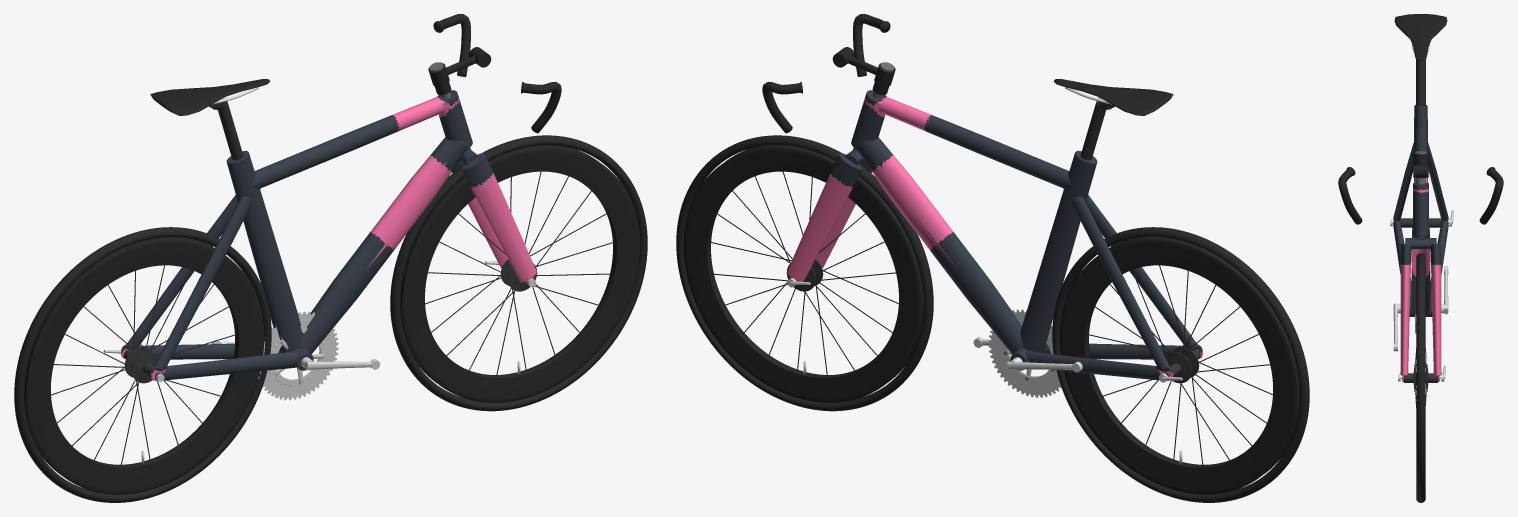
The model's file is bike_web_raw.glb.
3 renders of one model, left to right at view 1: azimuth 30°, elevation 25°; view 2: azimuth 150°, elevation 25°; view 3: azimuth 270°, elevation 25°, orthographic. The views are drawn at different scales.
Visible parts, largest first — view 1: frame, rim_rear, rim_front, tyre_rear, tyre_front, fork, spokes_front, chainrings, spokes_rear, saddle, dropbar, stem (+3 smaller); view 2: frame, rim_rear, rim_front, tyre_rear, tyre_front, fork, spokes_front, spokes_rear, saddle, chainrings, dropbar, stem (+3 smaller); view 3: frame, fork, tyre_front, saddle, dropbar, crank_arms, stem, seatpost, hub_front, hub_rear.
Part boxes in pixels (x1,y1,x2,y2): frame: [121, 90, 472, 380]; rim_rear: [24, 237, 264, 494]; rim_front: [400, 145, 640, 402]; tyre_rear: [14, 227, 271, 502]; tyre_front: [390, 135, 647, 411]; fork: [452, 147, 536, 283]; spokes_front: [425, 171, 614, 375]; chainrings: [258, 311, 338, 400]; spokes_rear: [51, 265, 236, 465]; saddle: [150, 79, 270, 115]; dropbar: [433, 14, 561, 133]; stem: [428, 47, 491, 98]; frame: [851, 90, 1202, 380]; rim_rear: [1059, 237, 1299, 494]; rim_front: [683, 145, 923, 402]; tyre_rear: [1052, 227, 1309, 502]; tyre_front: [676, 135, 933, 411]; fork: [787, 147, 871, 281]; spokes_front: [710, 171, 898, 375]; spokes_rear: [1087, 265, 1272, 465]; saddle: [1053, 79, 1173, 115]; chainrings: [988, 309, 1061, 397]; dropbar: [762, 14, 890, 133]; stem: [832, 47, 895, 98]; frame: [1393, 105, 1448, 316]; fork: [1400, 238, 1441, 381]; tyre_front: [1416, 253, 1425, 502]; saddle: [1394, 14, 1447, 60]; dropbar: [1338, 167, 1503, 224]; crank_arms: [1393, 266, 1448, 351]; stem: [1413, 151, 1428, 184]; seatpost: [1416, 59, 1425, 106]; hub_front: [1402, 364, 1439, 391]; hub_rear: [1400, 218, 1441, 227].
Bounding box in the file's own units: 1.66 × 0.9827 × 0.4466.
